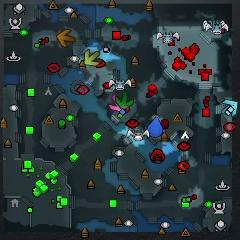p1: (147, 116, 163, 137)
x1: (109, 94, 122, 112)
x2: (84, 48, 100, 67)
x3: (222, 99, 238, 117)
x4: (116, 92, 135, 109)
x5: (57, 29, 76, 46)
